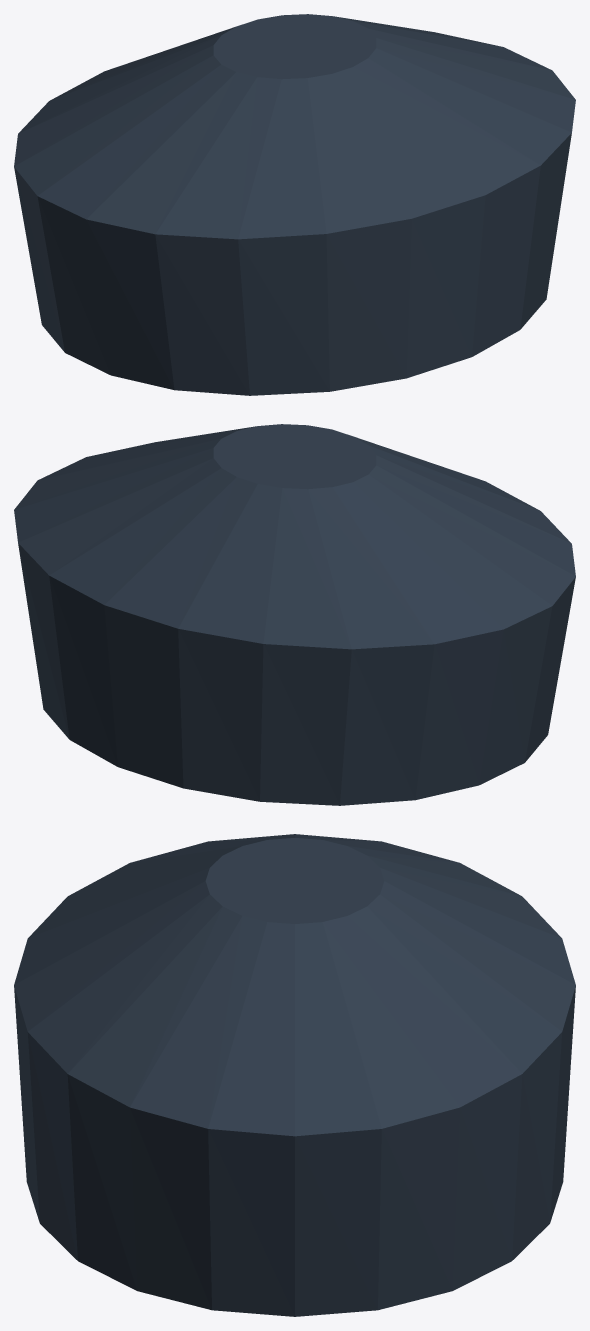
The model's file is Guard_Helmet.obj.
The picture shows the model from 3 angles, top to bottom: view 1: azimuth 30°, elevation 25°; view 2: azimuth 150°, elevation 25°; view 3: azimuth 270°, elevation 25°; orthographic projection. The views are drawn at different scales.
Visible parts, largest first — view 1: Guard_Helmet; view 2: Guard_Helmet; view 3: Guard_Helmet.
Part boxes in pixels (bbox=[...]): Guard_Helmet: bbox=[14, 14, 575, 395]; Guard_Helmet: bbox=[14, 424, 575, 805]; Guard_Helmet: bbox=[14, 834, 575, 1316].
Size of the model in its own units: 0.56 by 0.26 by 0.44.
